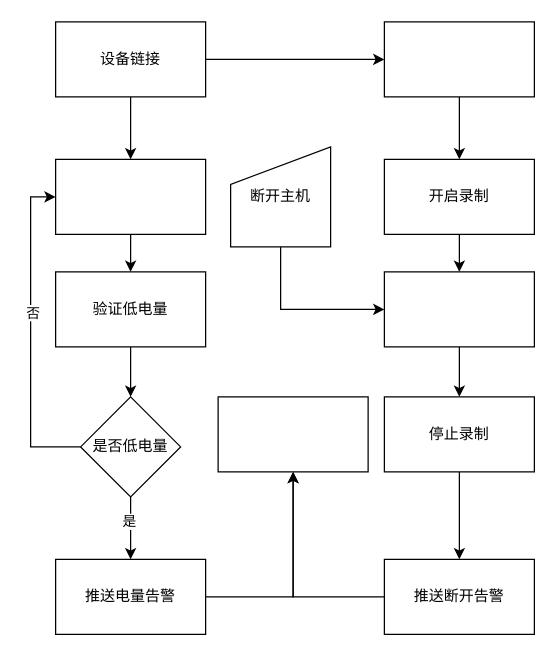
This 556x656 diagram has some shape labels left out. Here are the shapes that lost their labels. From the top down, the centre of each, then its label:
[458,59]: 开启采集
[130,196]: 定时任务更新设备电量
[458,309]: 收到断开监听
[292,434]: 前端显示
